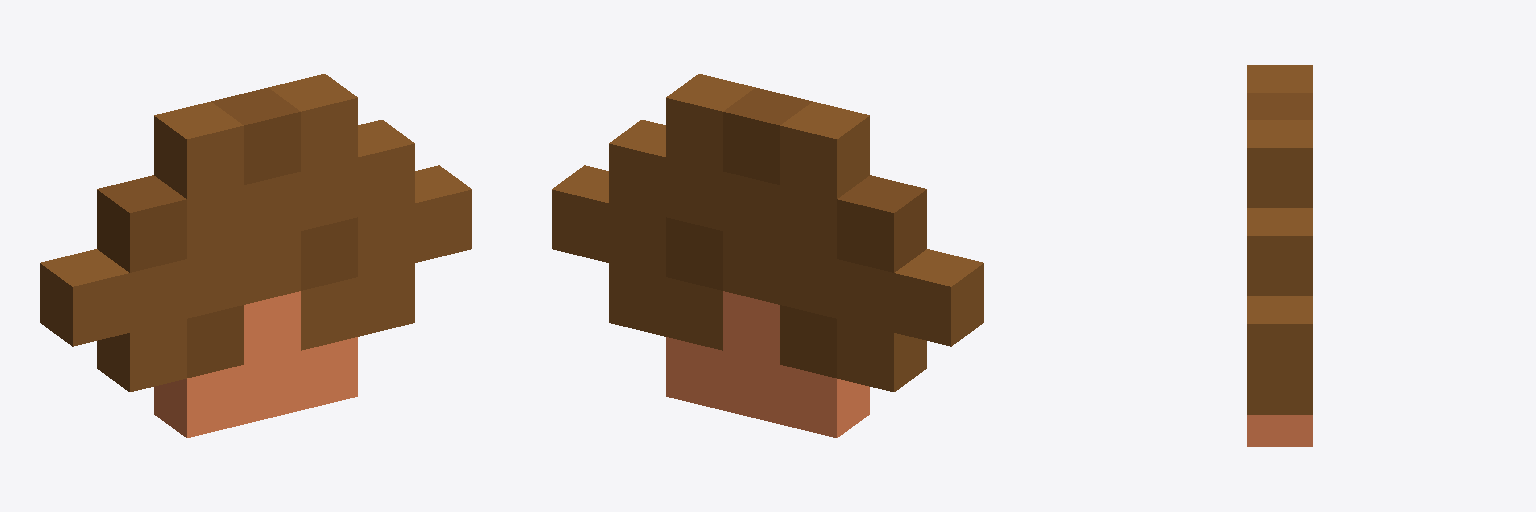
3 renders of one model, left to right at view 1: azimuth 30°, elevation 25°; view 2: azimuth 150°, elevation 25°; view 3: azimuth 270°, elevation 25°, orthographic.
Visible parts, largest first — view 1: BrownMushroom.png; view 2: BrownMushroom.png; view 3: BrownMushroom.png.
Part boxes in pixels (x1,y1,x2,y2): BrownMushroom.png: (40,74,471,437); BrownMushroom.png: (552,74,983,437); BrownMushroom.png: (1247,65,1312,446).
Size of the model in its own units: 7 by 5 by 1.
Materials: 1 (1 with a texture image).